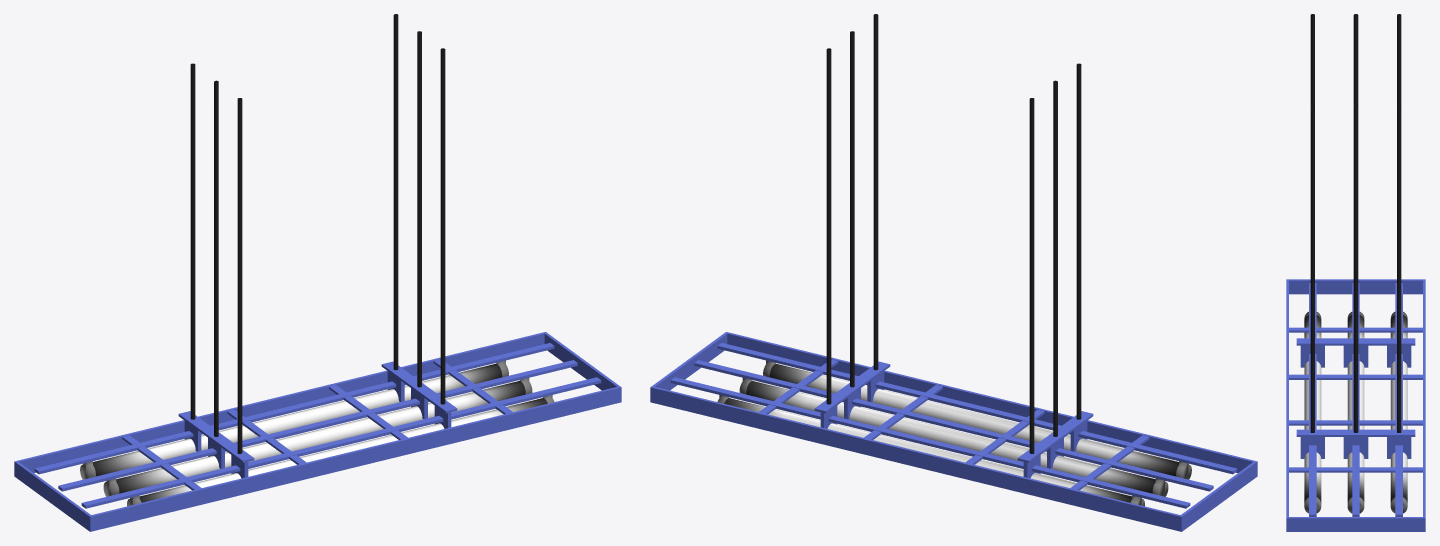
Rendered from Aperture Light Fixtures 1x.fbx.
3 renders of one model, left to right at view 1: azimuth 30°, elevation 25°; view 2: azimuth 150°, elevation 25°; view 3: azimuth 270°, elevation 25°, orthographic. The views are drawn at different scales.
Parts seen in each view (by area): view 1: Aperture Light 1x; view 2: Aperture Light 1x; view 3: Aperture Light 1x.
Boxes of the visible parts, x1,y1,x2,y2 form: Aperture Light 1x: (14, 14, 621, 531); Aperture Light 1x: (650, 14, 1257, 531); Aperture Light 1x: (1286, 14, 1425, 531).
Size of the model in its own units: 1.57 by 0.388 by 1.1.
